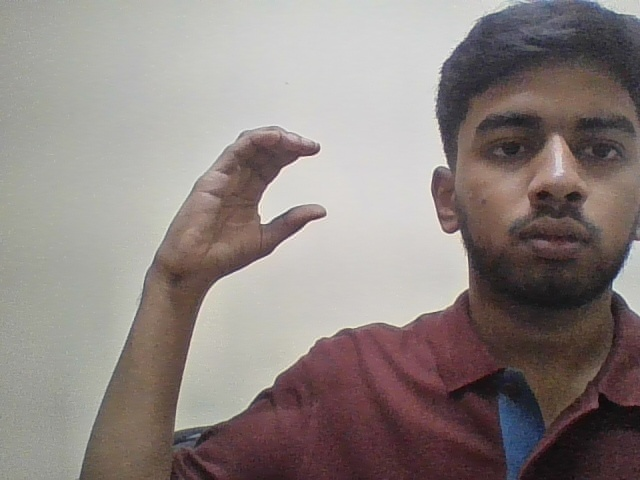C: (146, 113, 349, 288)
